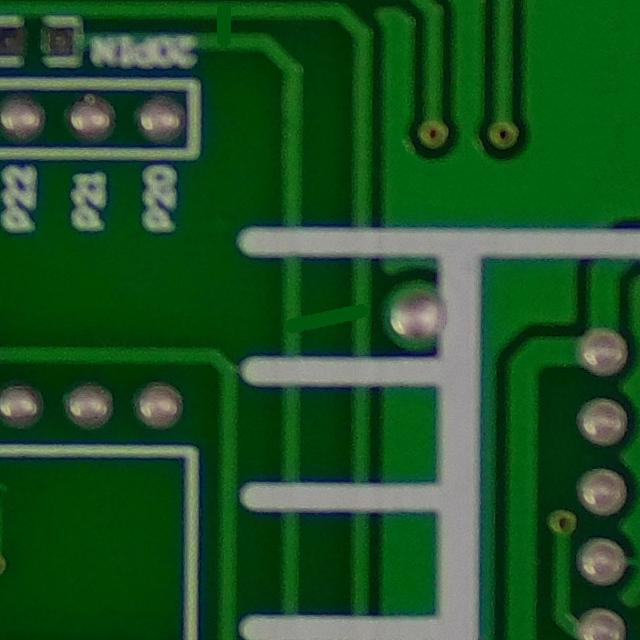short: (263, 277, 378, 364)
